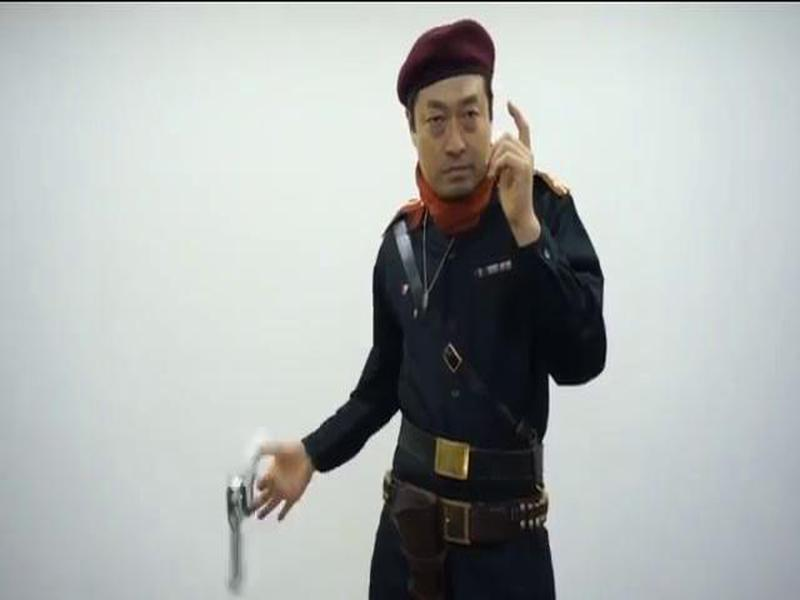Revolver: (214, 431, 288, 600)
